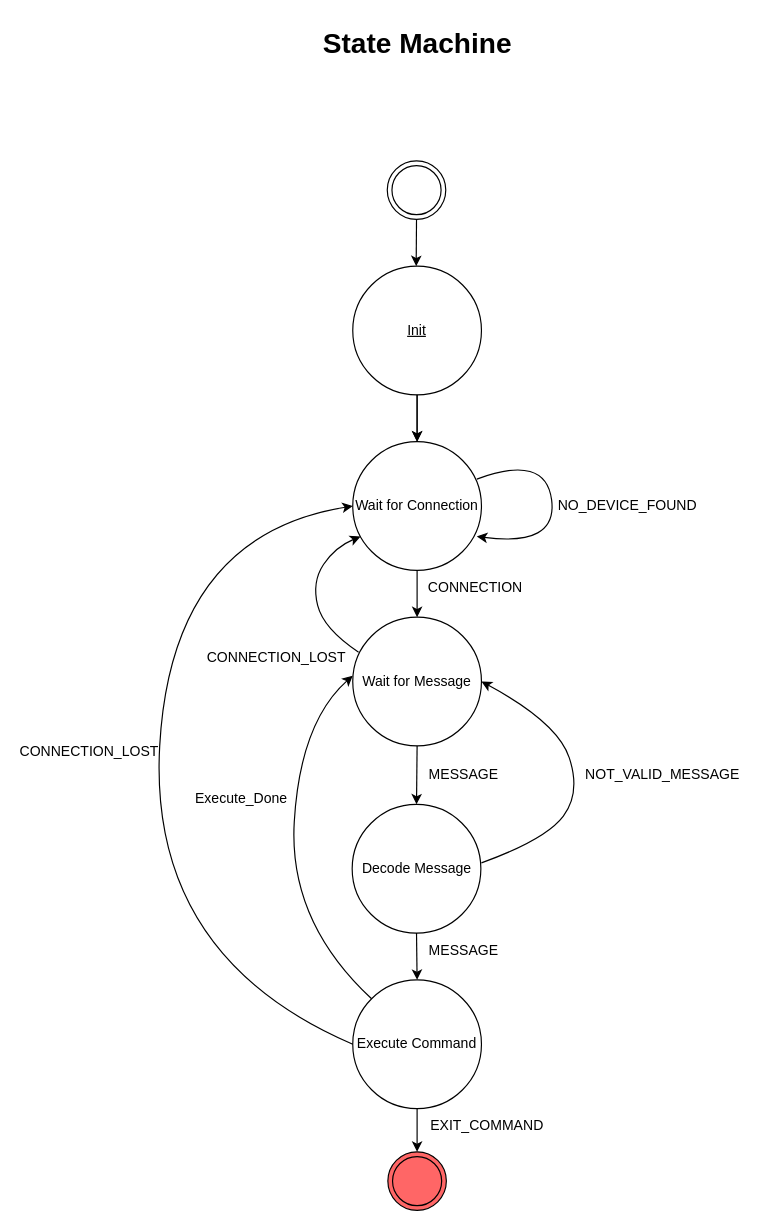
The diagram is 761 pixels wide and 1231 high, and some of its shapes have lost their labels. Here are the shapes that lost their labels. From the top down, the centre of each, then its label:
At pixel 416 189: "Start".
At pixel 416 1180: "STOP".
